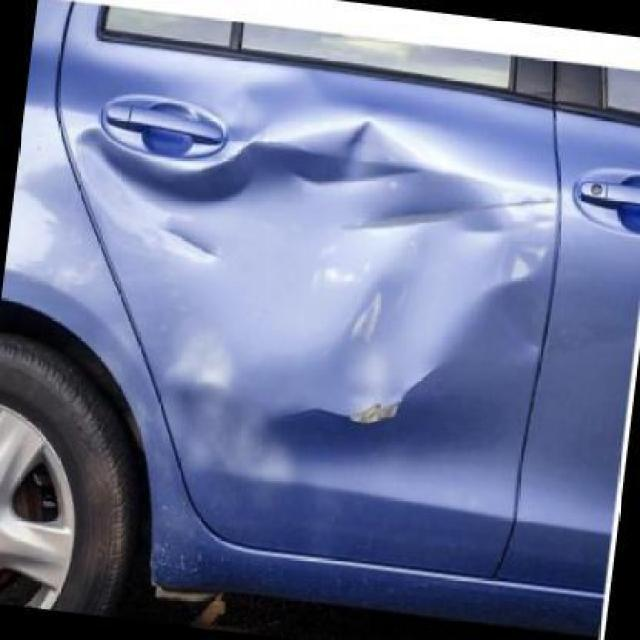dent: (175, 111, 503, 223), (251, 347, 501, 490), (306, 231, 423, 342)
